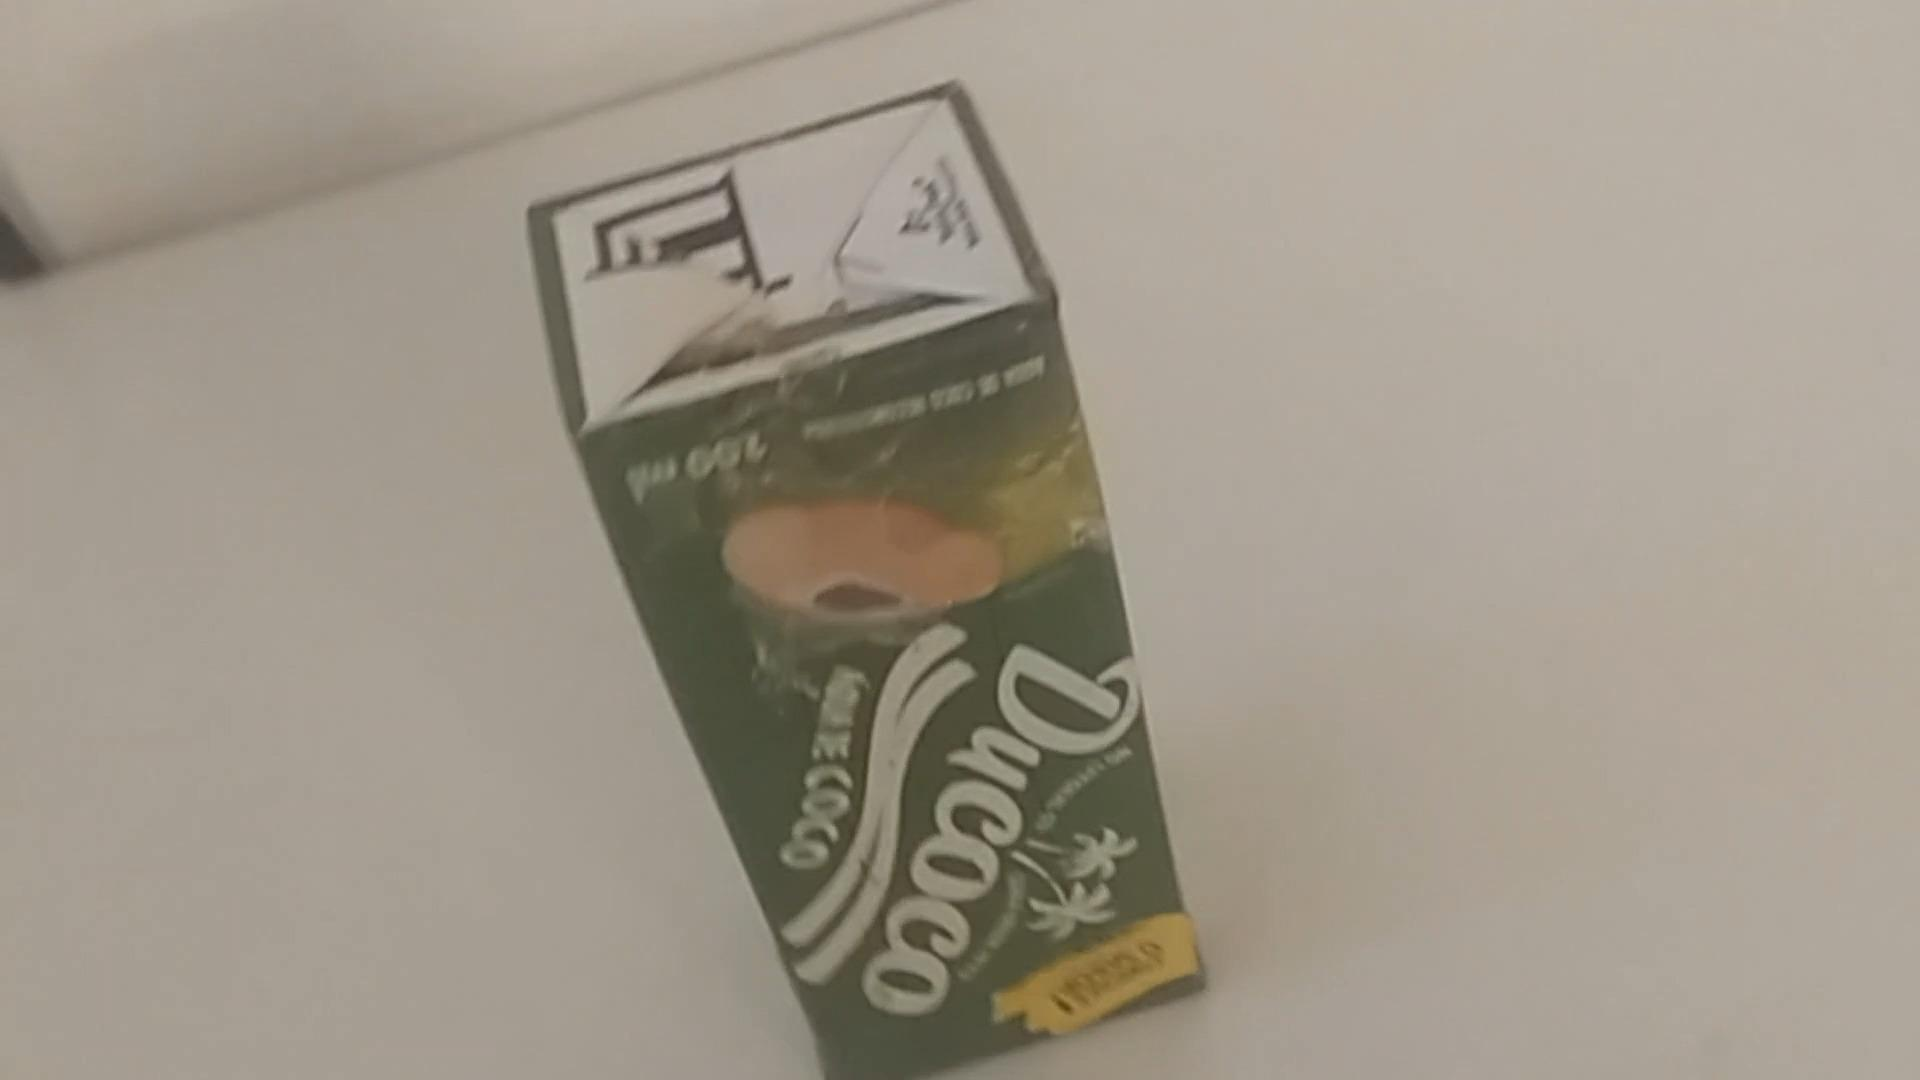coco: (525, 83, 1203, 1077)
